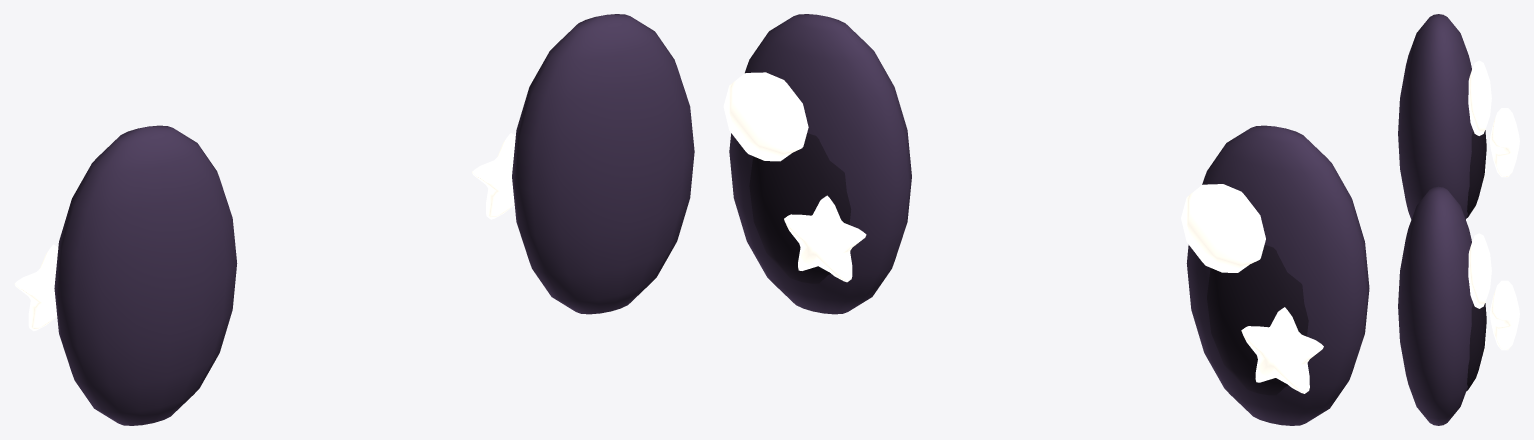
Rendered from Eyes_Sparkly.fbx.
3 views of the same model, side by side, from view 1: azimuth 30°, elevation 25°; view 2: azimuth 150°, elevation 25°; view 3: azimuth 270°, elevation 25° (orthographic). The views are drawn at different scales.
Visible parts, largest first — view 1: Eye, Eye.001, Eye_Sparkle.005, Eye_Sparkle.004; view 2: Eye, Eye.001, Eye_Pupil.001, Eye_Pupil, Eye_Sparkle, Eye_Sparkle.002, Eye_Sparkle.004, Eye_Sparkle.005; view 3: Eye, Eye.001, Eye_Sparkle.004, Eye_Sparkle.005, Eye_Sparkle.002, Eye_Sparkle, Eye_Pupil, Eye_Pupil.001.
Part boxes in pixels (<box>): Eye: <box>512,14,694,314</box>; Eye.001: <box>54,125,237,425</box>; Eye_Sparkle.005: <box>14,244,58,331</box>; Eye_Sparkle.004: <box>472,133,515,219</box>; Eye: <box>729,14,911,314</box>; Eye.001: <box>1186,125,1369,425</box>; Eye_Pupil.001: <box>1207,245,1308,395</box>; Eye_Pupil: <box>749,133,851,283</box>; Eye_Sparkle: <box>723,72,808,161</box>; Eye_Sparkle.002: <box>1181,184,1265,272</box>; Eye_Sparkle.004: <box>784,195,866,282</box>; Eye_Sparkle.005: <box>1241,307,1323,393</box>; Eye: <box>1398,186,1472,425</box>; Eye.001: <box>1398,14,1473,219</box>; Eye_Sparkle.004: <box>1489,280,1519,350</box>; Eye_Sparkle.005: <box>1489,108,1519,177</box>; Eye_Sparkle.002: <box>1468,60,1491,135</box>; Eye_Sparkle: <box>1468,233,1491,308</box>; Eye_Pupil: <box>1466,303,1486,390</box>; Eye_Pupil.001: <box>1466,130,1486,218</box>.
Size of the model in its own units: 40.16 by 18 by 8.65.
